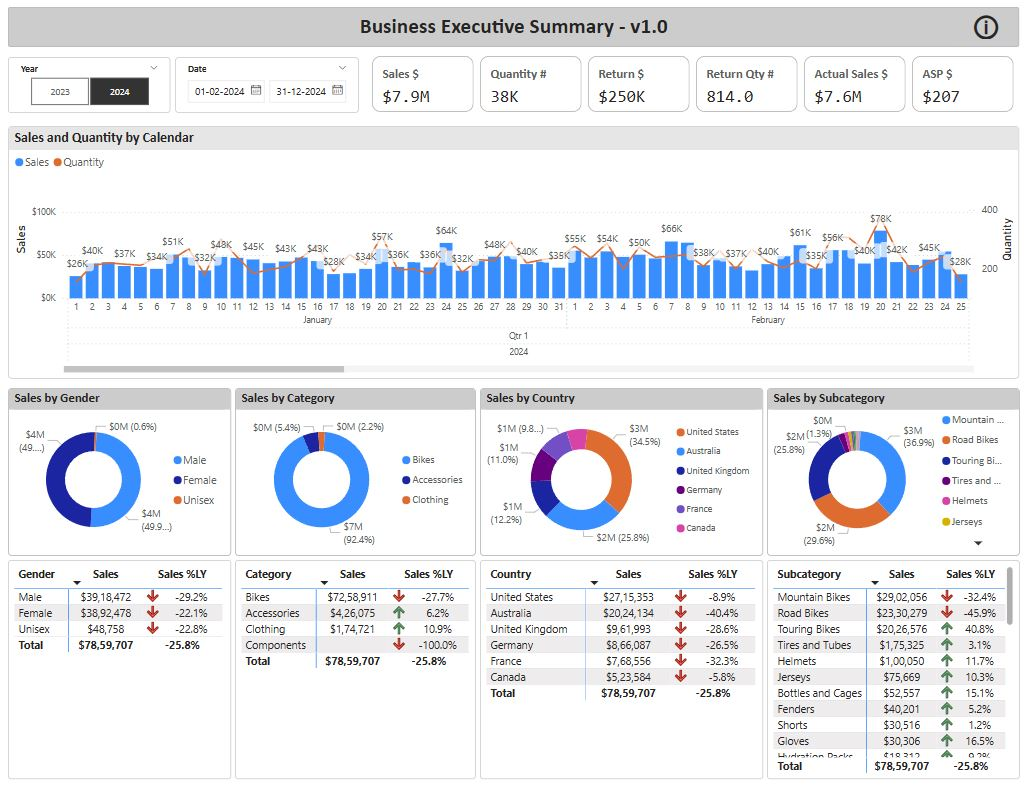

The page's visual inventory and layout, read from the dashboard file:
{"tool":"powerbi","page":{"name":"Executive Summary v1.0","canvas":[1300,1000],"ordinal":0},"visuals":[{"type":"cardVisual","fields":{"Data":["All_Measures.Total_Sales_CY","All_Measures.Total_Qty_CY","All_Measures.Return_Amount_CY","All_Measures.Return_Qty_CY","All_Measures.Actual_Sales_CY","All_Measures.ASP_CY"]},"box":[468.6,74.3,814.3,80],"z":0},{"type":"lineStackedColumnComboChart","title":"Sales and Quantity by Calendar","fields":{"Category":["AW_Calendar.Date.Variation.Date Hierarchy.Year","AW_Calendar.Date.Variation.Date Hierarchy.Quarter","AW_Calendar.Date.Variation.Date Hierarchy.Month","AW_Calendar.Date.Variation.Date Hierarchy.Day"],"Y":["All_Measures.Total_Sales_CY"],"Y2":["All_Measures.Total_Qty_CY"]},"box":[18.6,165.7,1264.3,315.7],"z":1000},{"type":"slicer","fields":{"Values":["AW_Calendar.Year"]},"box":[18.6,80,202.9,70],"z":2000},{"type":"textbox","box":[18.6,17.1,1264.3,50],"z":3000},{"type":"donutChart","fields":{"Category":["AW_Customers.Gender"],"Y":["All_Measures.Total_Sales_CY"]},"box":[18.6,494.3,278.6,210],"z":4000},{"type":"donutChart","fields":{"Category":["AW_Product_Category.CategoryName"],"Y":["All_Measures.Total_Sales_CY"]},"box":[302.9,494.3,301.4,210],"z":5000},{"type":"donutChart","fields":{"Category":["AW_Territories.Country"],"Y":["All_Measures.Total_Sales_CY"]},"box":[608.6,494.3,354.3,210],"z":6000},{"type":"slicer","fields":{"Values":["AW_Calendar.Date"]},"box":[227.1,80,230,70],"z":7000},{"type":"pivotTable","fields":{"Values":["All_Measures.Total_Sales_CY","All_Measures.Total_Sales_PoP%"],"Rows":["AW_Customers.Gender"]},"box":[18.6,708.6,278.6,274.3],"z":8000},{"type":"pivotTable","fields":{"Values":["All_Measures.Total_Sales_CY","All_Measures.Total_Sales_PoP%"],"Rows":["AW_Product_Category.CategoryName"]},"box":[302.9,708.6,301.4,274.3],"z":9000},{"type":"pivotTable","fields":{"Values":["All_Measures.Total_Sales_CY","All_Measures.Total_Sales_PoP%"],"Rows":["AW_Territories.Country"]},"box":[608.6,708.6,354.3,274.3],"z":10000},{"type":"donutChart","fields":{"Category":["AW_Product_Subcategory.SubcategoryName"],"Y":["All_Measures.Total_Sales_CY"]},"box":[967.1,494.3,315.7,210],"z":11000},{"type":"pivotTable","fields":{"Values":["All_Measures.Total_Sales_CY","All_Measures.Total_Sales_PoP%"],"Rows":["AW_Product_Subcategory.SubcategoryName"]},"box":[967.1,708.6,315.7,274.3],"z":12000},{"type":"card","fields":{"Values":["All_Measures.Z_Info_Icon"]},"box":[1202,22,78,42],"z":13000}]}

Visuals, with their boxes in screenshot pixels (x1, y1, x2, y2), scaled from the page's 1300x1000 canvas onto the 1029x788 screenshot:
cardVisual - All_Measures.Total_Sales_CY x All_Measures.Total_Qty_CY: (left=371, top=59, right=1015, bottom=122)
"Sales and Quantity by Calendar" lineStackedColumnComboChart: (left=15, top=131, right=1015, bottom=379)
slicer - AW_Calendar.Year: (left=15, top=63, right=175, bottom=118)
textbox: (left=15, top=13, right=1015, bottom=53)
donutChart - AW_Customers.Gender x All_Measures.Total_Sales_CY: (left=15, top=390, right=235, bottom=555)
donutChart - AW_Product_Category.CategoryName x All_Measures.Total_Sales_CY: (left=240, top=390, right=478, bottom=555)
donutChart - AW_Territories.Country x All_Measures.Total_Sales_CY: (left=482, top=390, right=762, bottom=555)
slicer - AW_Calendar.Date: (left=180, top=63, right=362, bottom=118)
pivotTable - All_Measures.Total_Sales_CY x All_Measures.Total_Sales_PoP%: (left=15, top=558, right=235, bottom=775)
pivotTable - All_Measures.Total_Sales_CY x All_Measures.Total_Sales_PoP%: (left=240, top=558, right=478, bottom=775)
pivotTable - All_Measures.Total_Sales_CY x All_Measures.Total_Sales_PoP%: (left=482, top=558, right=762, bottom=775)
donutChart - AW_Product_Subcategory.SubcategoryName x All_Measures.Total_Sales_CY: (left=765, top=390, right=1015, bottom=555)
pivotTable - All_Measures.Total_Sales_CY x All_Measures.Total_Sales_PoP%: (left=765, top=558, right=1015, bottom=775)
card - All_Measures.Z_Info_Icon: (left=951, top=17, right=1013, bottom=50)
